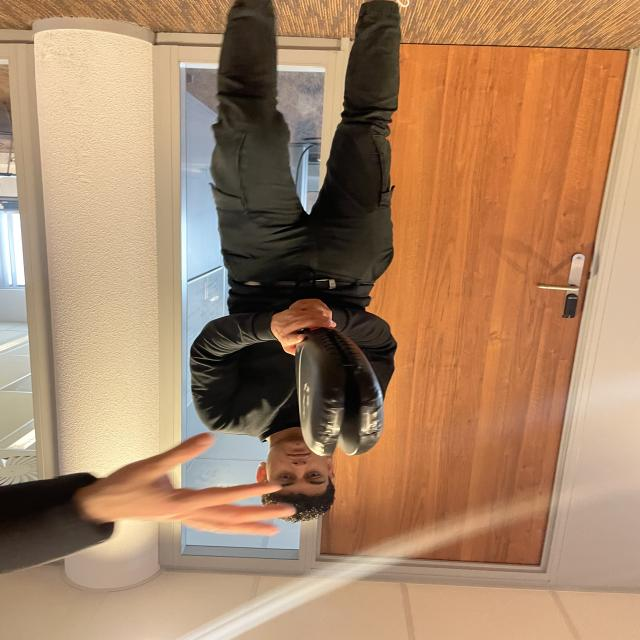paddle: (289, 332, 383, 458)
